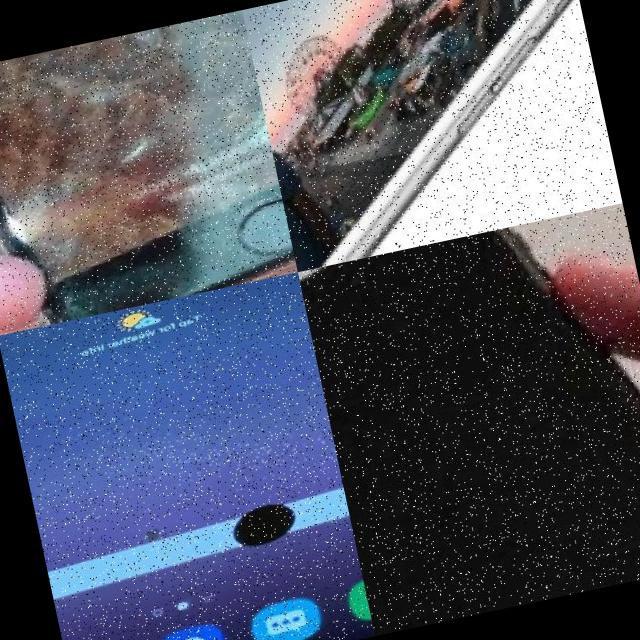dead pixel: (182, 466, 351, 596), (125, 522, 168, 564)
